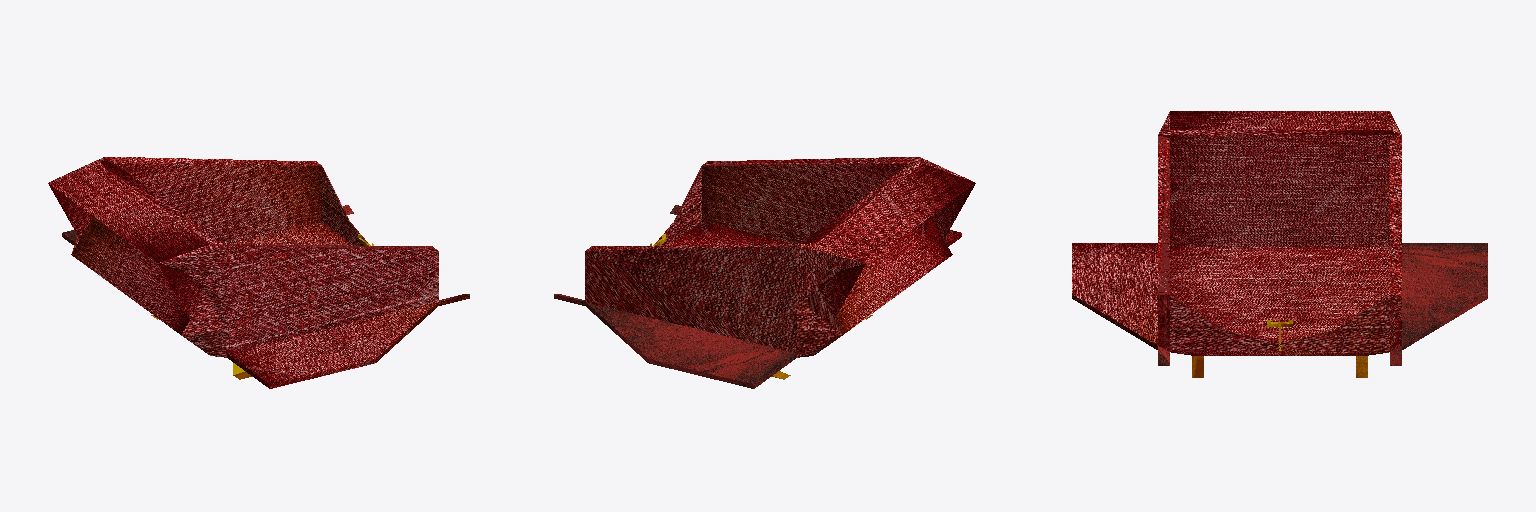
3 renders of one model, left to right at view 1: azimuth 30°, elevation 25°; view 2: azimuth 150°, elevation 25°; view 3: azimuth 270°, elevation 25°, orthographic.
Parts seen in each view (by area): view 1: Cube; view 2: Cube; view 3: Cube.
Part boxes in pixels (bbox=[...]): Cube: bbox=[48, 157, 469, 388]; Cube: bbox=[554, 157, 975, 388]; Cube: bbox=[1072, 111, 1487, 377].
Size of the model in its own units: 2.9 by 1.39 by 3.4.
Materials: 4 (3 with a texture image).